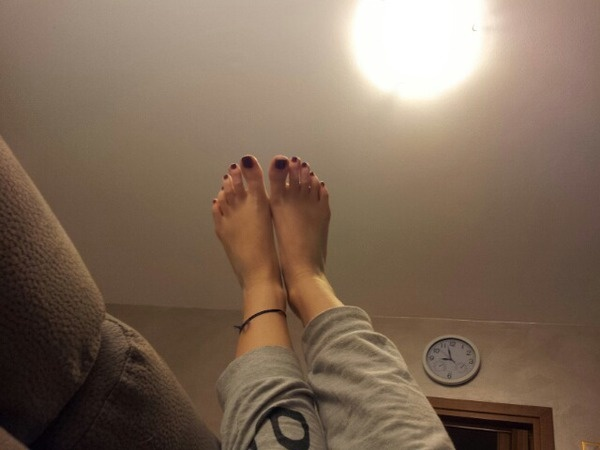feet: (181, 146, 290, 315), (248, 127, 337, 312)
